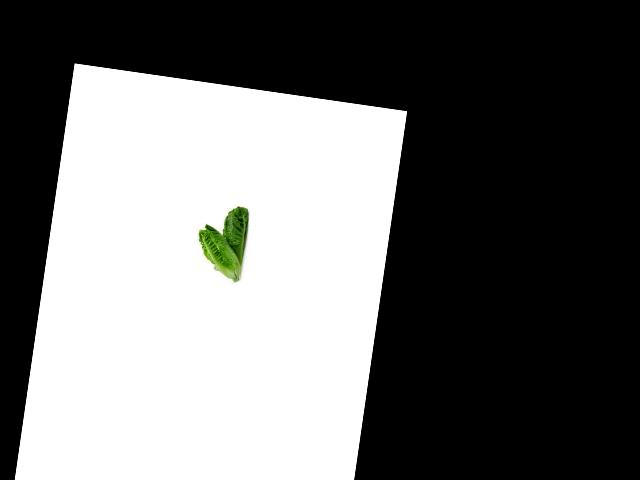lettuce: (216, 199, 255, 267)
